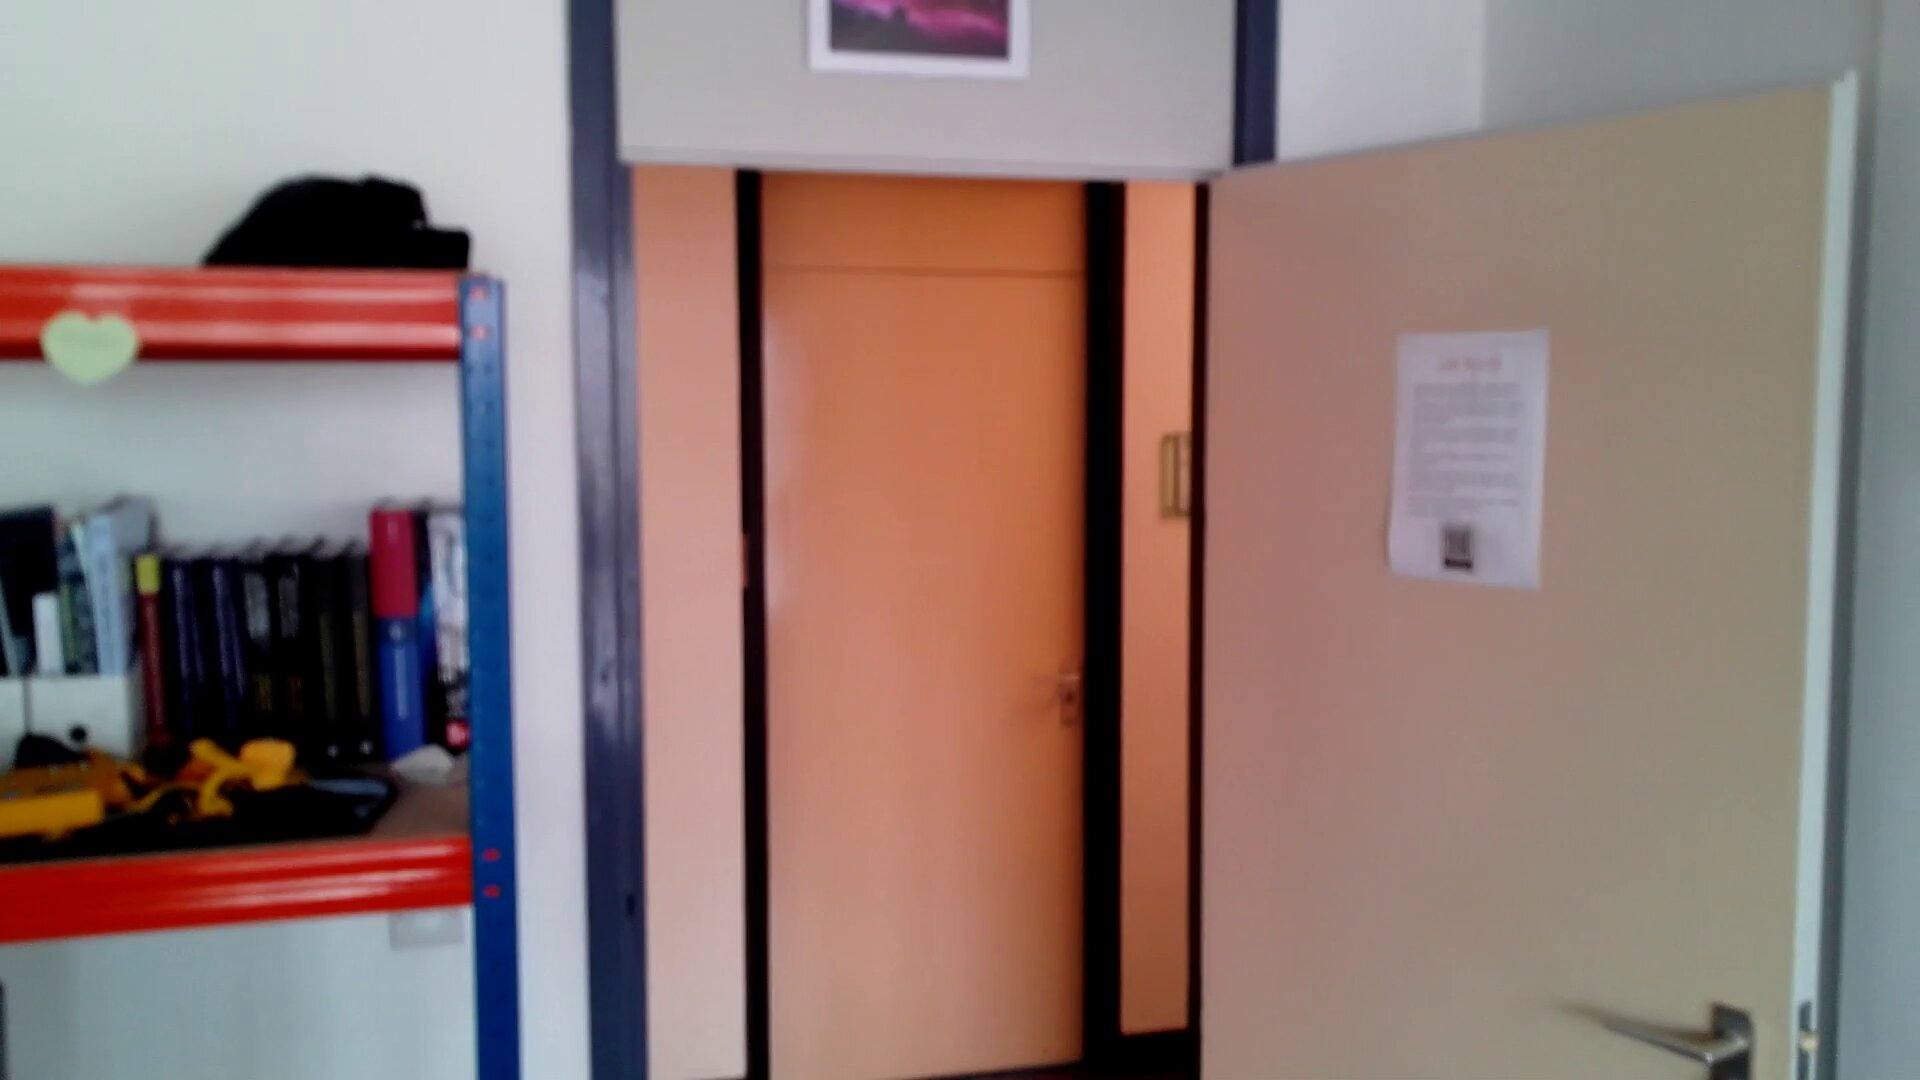Door: (725, 253, 1142, 1080)
